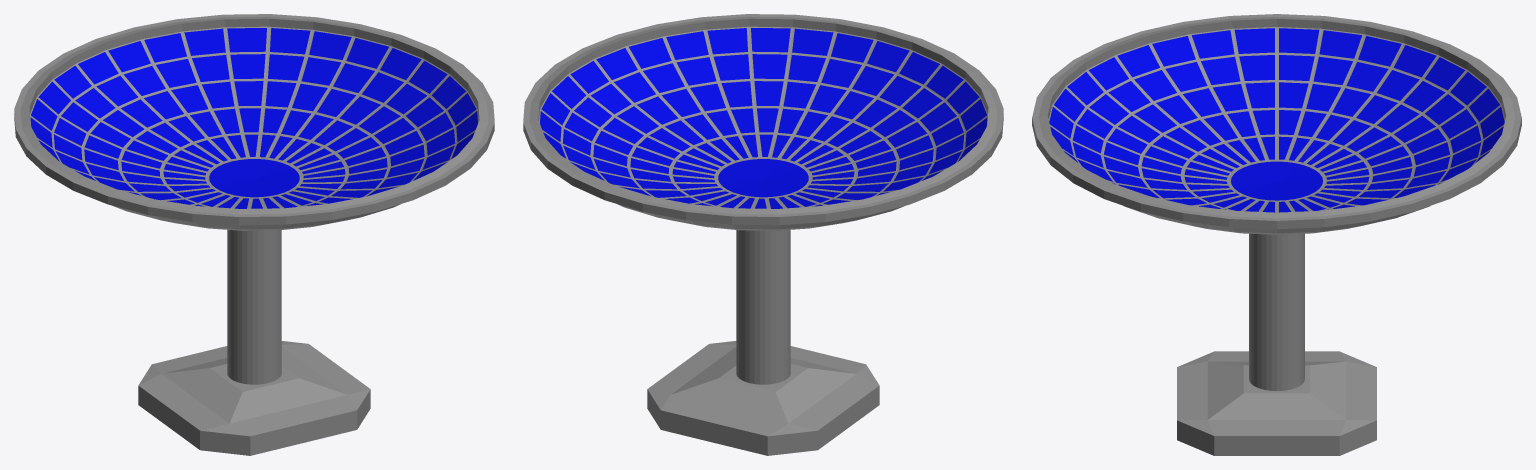
File: solarPower.fbx
3 views of the same model, side by side, from view 1: azimuth 30°, elevation 25°; view 2: azimuth 150°, elevation 25°; view 3: azimuth 270°, elevation 25° (orthographic).
Visible parts, largest first — view 1: Sphere, Cube, Cylinder; view 2: Sphere, Cube, Cylinder; view 3: Sphere, Cube, Cylinder.
Part boxes in pixels (x1,y1,x2,y2): Sphere: (14,14,494,230); Cube: (138,341,370,455); Cylinder: (227,230,281,384); Sphere: (523,14,1003,230); Cube: (647,341,879,455); Cylinder: (736,230,790,384); Sphere: (1032,14,1521,234); Cube: (1177,351,1376,455); Cylinder: (1249,233,1304,390).
Bounding box in the file's own units: 815 × 547 × 815.
